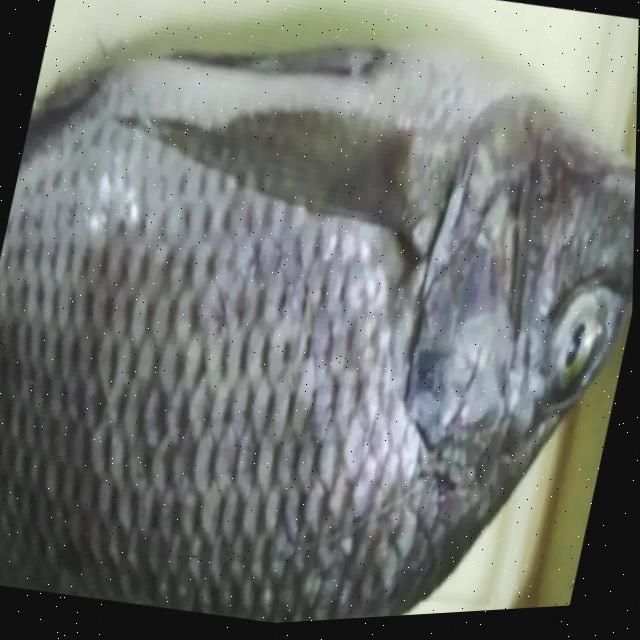Non-Fresh: (2, 9, 582, 626)
